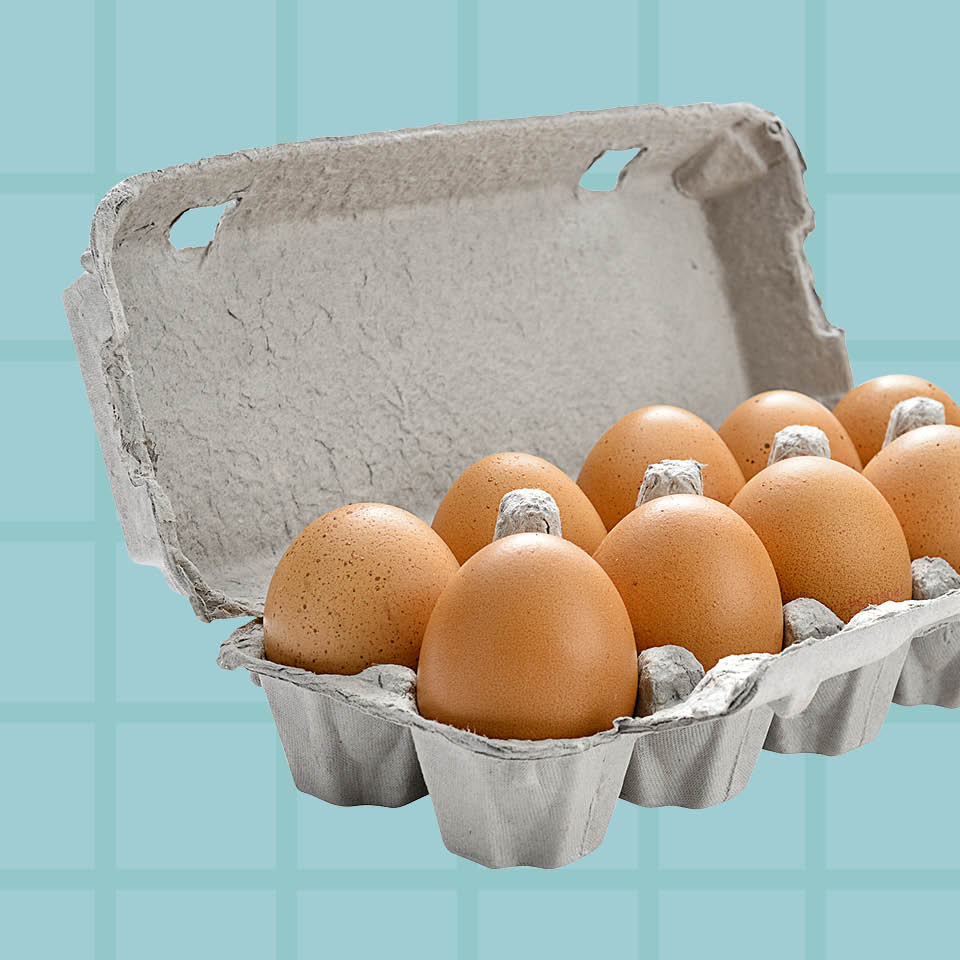egg: (261, 378, 960, 728)
